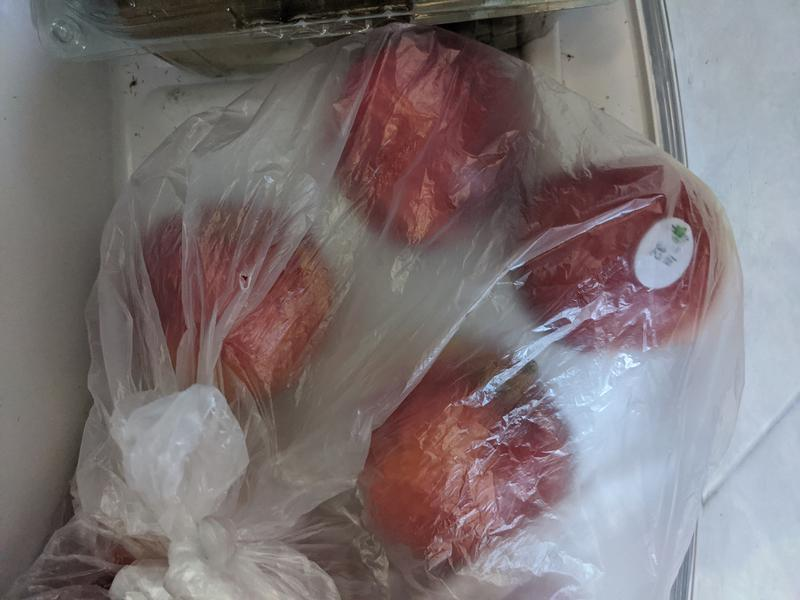red apple: (357, 338, 580, 575), (327, 34, 538, 247), (125, 201, 334, 403), (512, 163, 729, 351)
